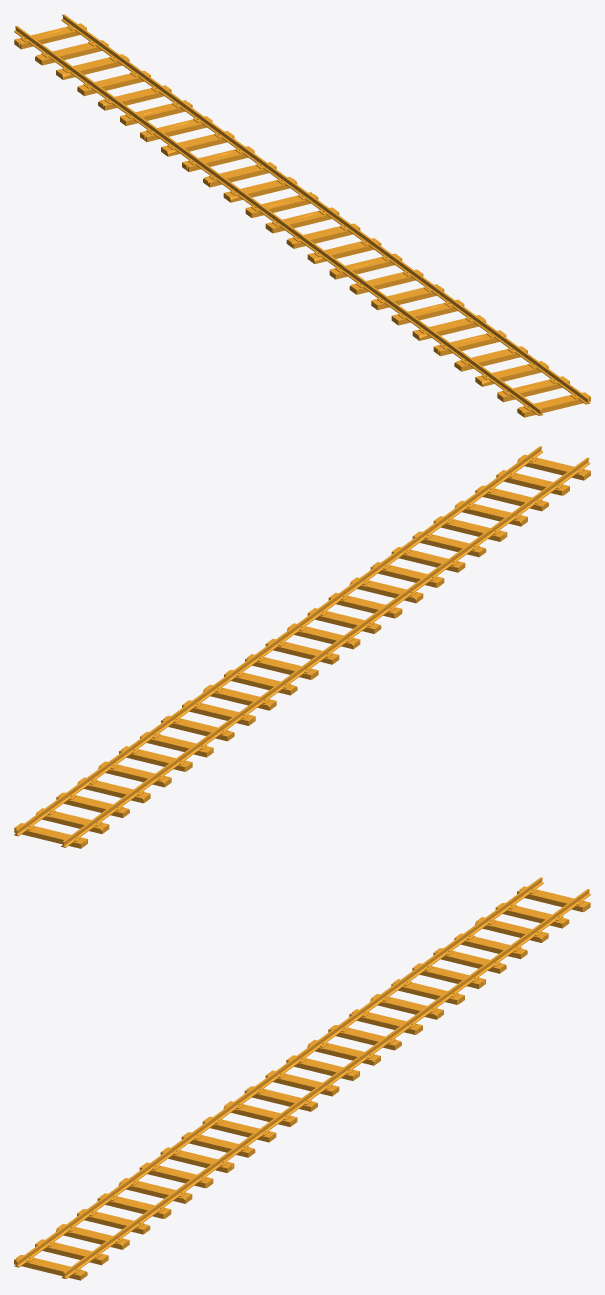
File: SM_Train_Rail_Straight_Old.fbx
The picture shows the model from 3 angles, top to bottom: view 1: azimuth 30°, elevation 25°; view 2: azimuth 150°, elevation 25°; view 3: azimuth 330°, elevation 25°; orthographic projection.
Visible parts, largest first — view 1: SM_Train_Rail_Straight_Old; view 2: SM_Train_Rail_Straight_Old; view 3: SM_Train_Rail_Straight_Old.
Part boxes in pixels (x1,y1,x2,y2): SM_Train_Rail_Straight_Old: (14, 14, 590, 417); SM_Train_Rail_Straight_Old: (14, 446, 590, 848); SM_Train_Rail_Straight_Old: (14, 877, 590, 1280).
Size of the model in its own units: 2.21 by 0.3465 by 30.
